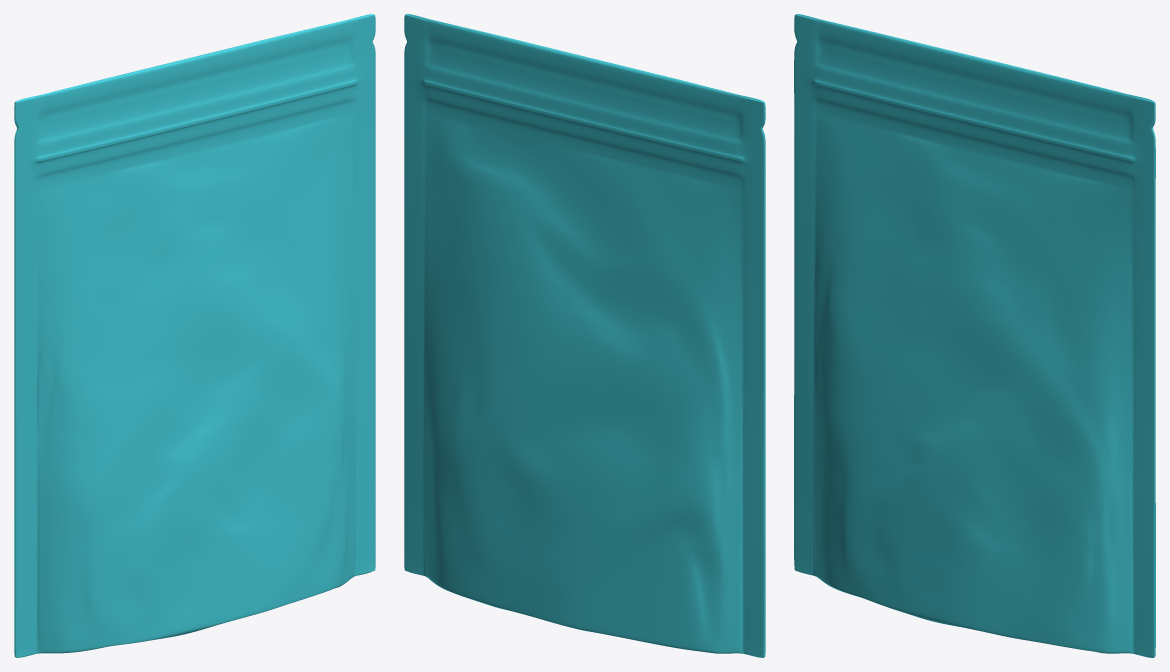
File: mylar_bag.glb
The picture shows the model from 3 angles, left to right: view 1: azimuth 30°, elevation 25°; view 2: azimuth 150°, elevation 25°; view 3: azimuth 330°, elevation 25°; orthographic projection.
Parts seen in each view (by area): view 1: Mylar_0; view 2: Mylar_0; view 3: Mylar_0.
Boxes of the visible parts, x1,y1,x2,y2 form: Mylar_0: [14, 14, 375, 657]; Mylar_0: [404, 14, 765, 657]; Mylar_0: [794, 14, 1155, 657].
Size of the model in its own units: 0.243 by 0.359 by 0.0421.
